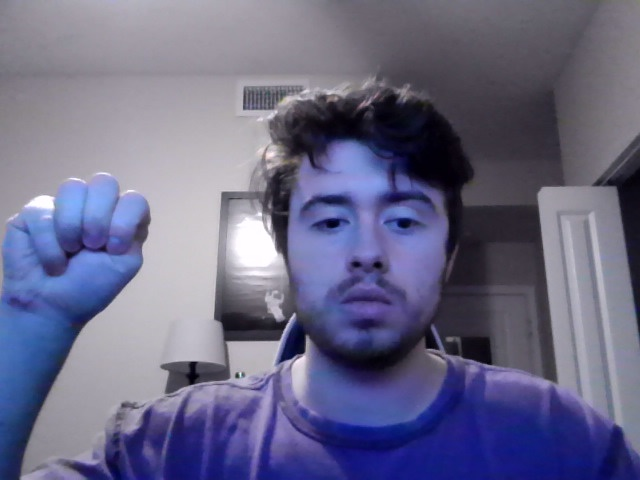m: (2, 171, 152, 339)
